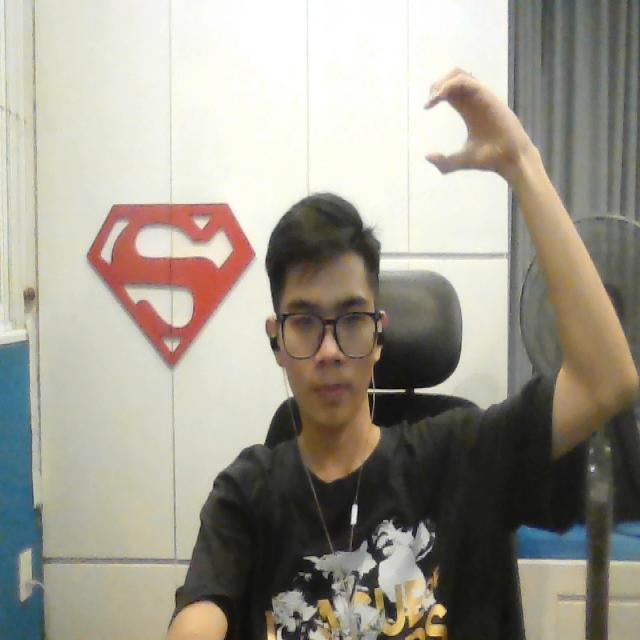C: (422, 58, 502, 184)
